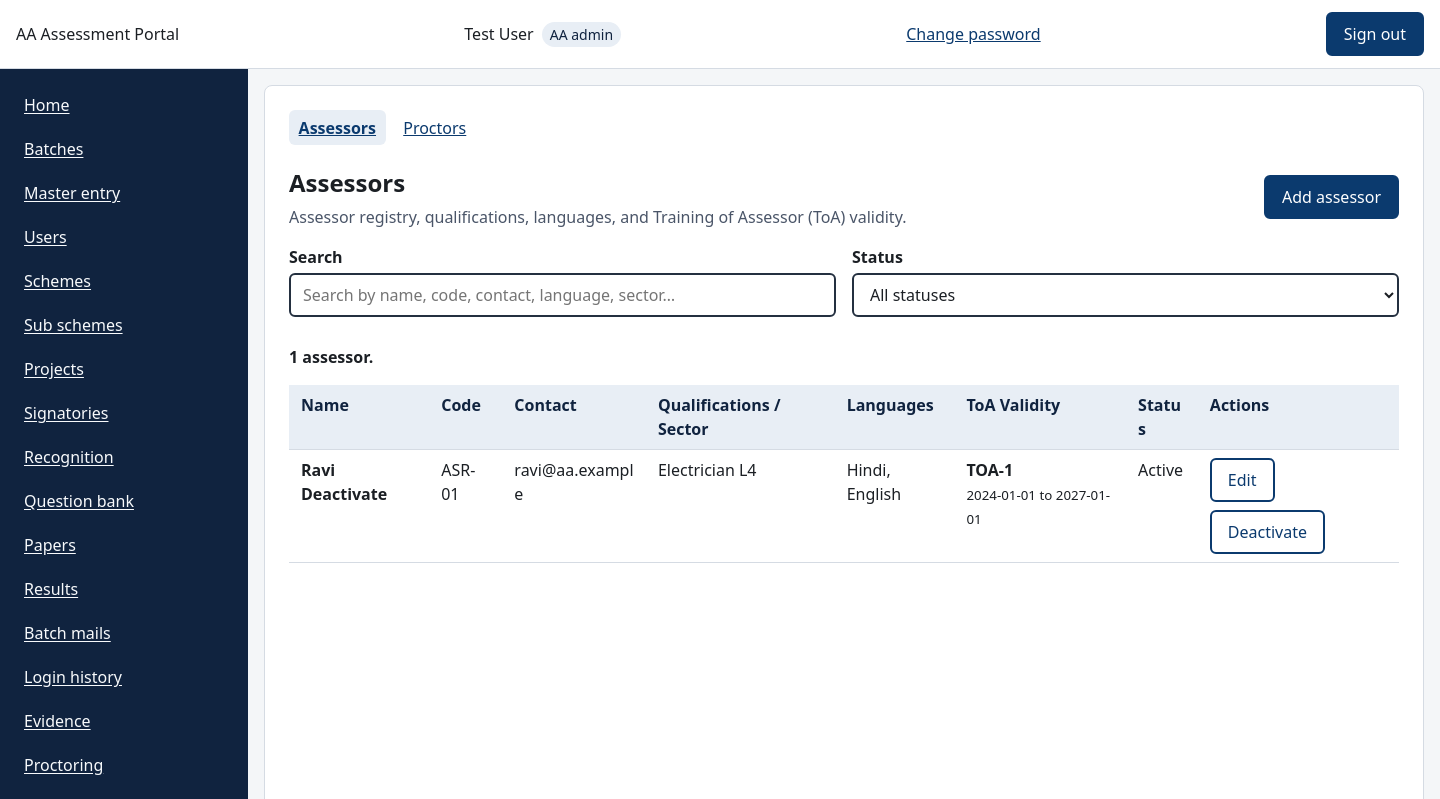
deactivates an assessor upon confirmation
Expected: the text "Ravi Deactivate" is shown, [289, 450, 429, 563]
Click the button "Deactivate" at {"x": 1268, "y": 532}, box [1210, 510, 1325, 554]
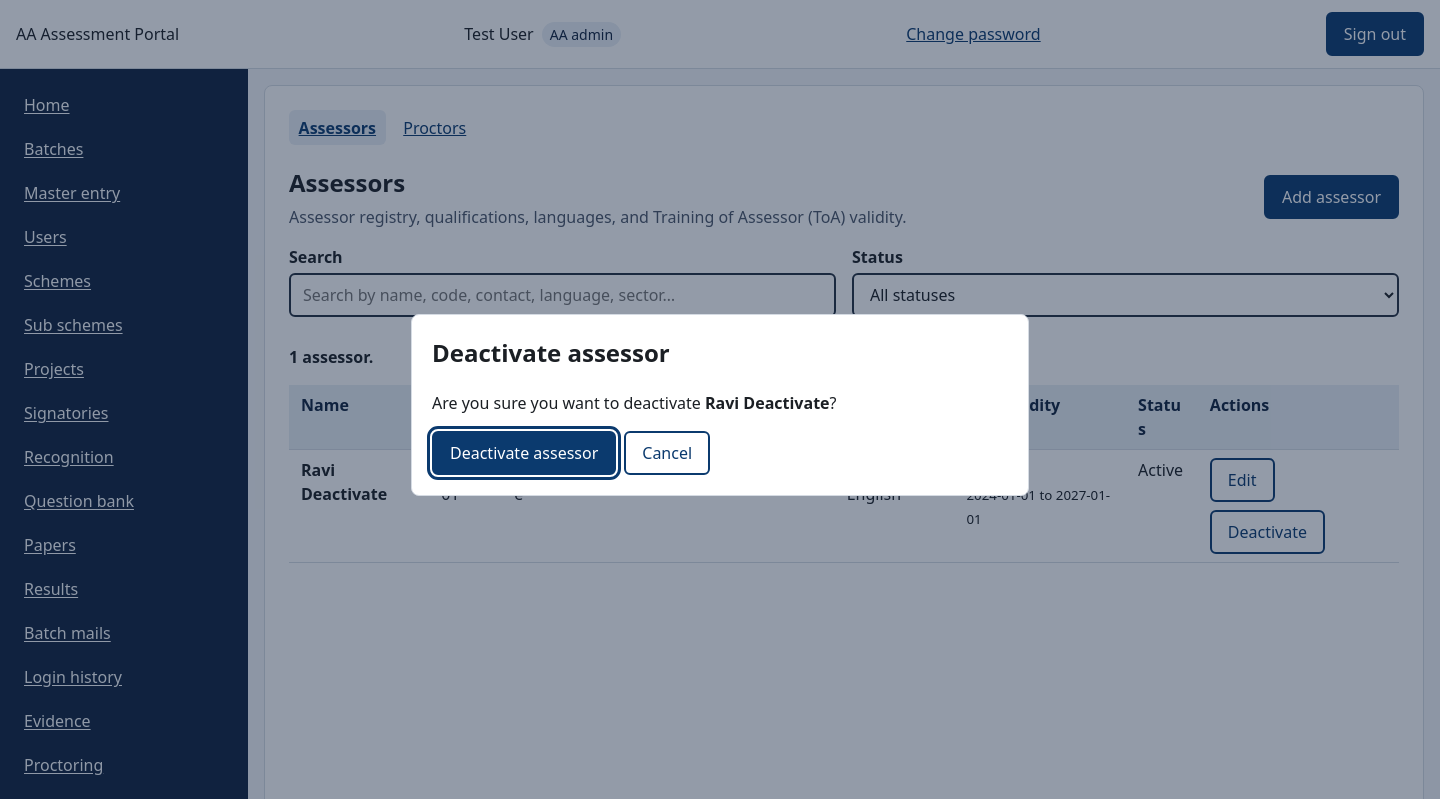
Result: the dialog "Deactivate assessor" is shown at [411, 314, 1029, 496]
Result: the text "Are you sure you want to deactivate Ravi Deactivate?" is shown at [432, 392, 836, 414]
Click the button "Deactivate assessor" at {"x": 524, "y": 453}, box [432, 431, 616, 475]
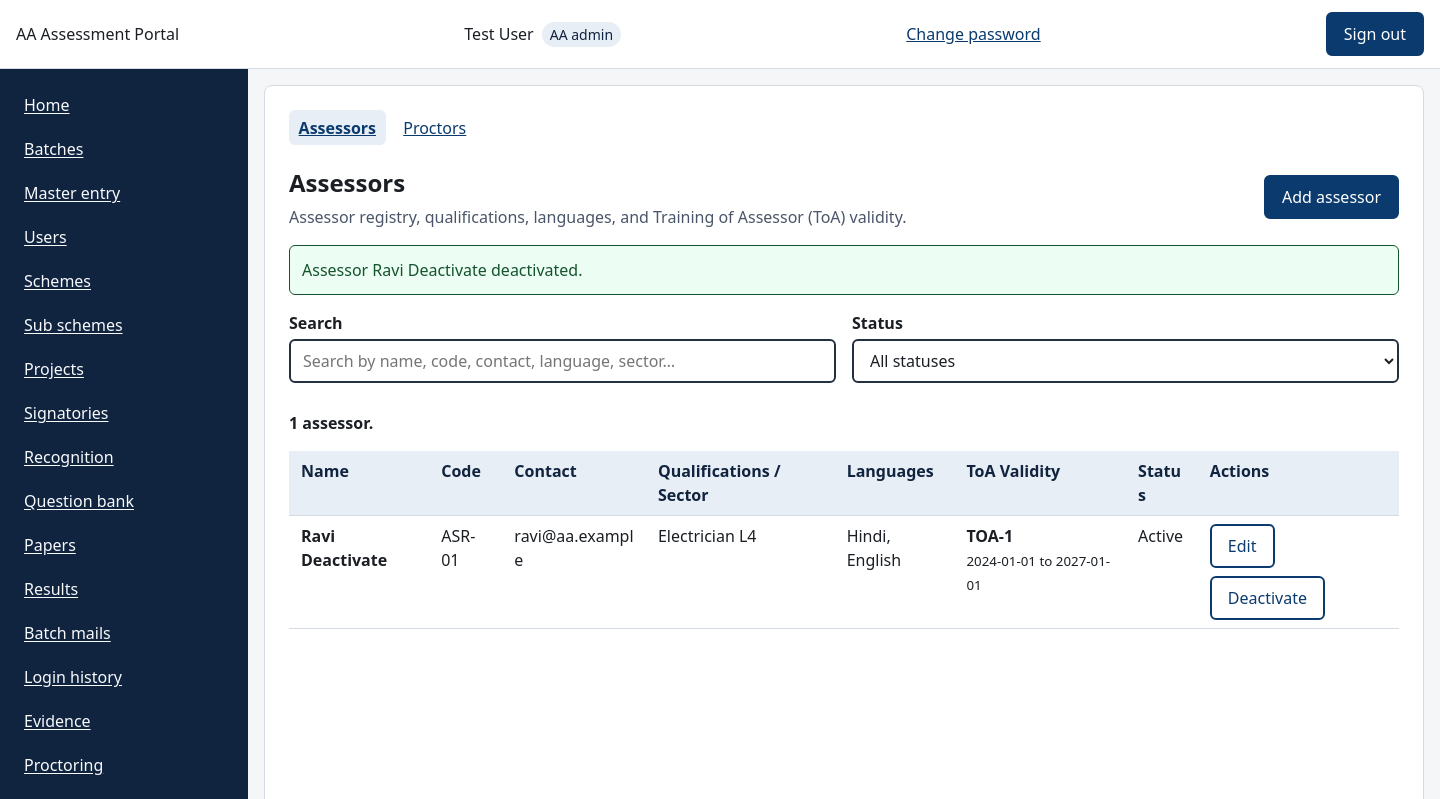
Result: the message reads "Assessor Ravi Deactivate deactivated." at [302, 259, 582, 281]
